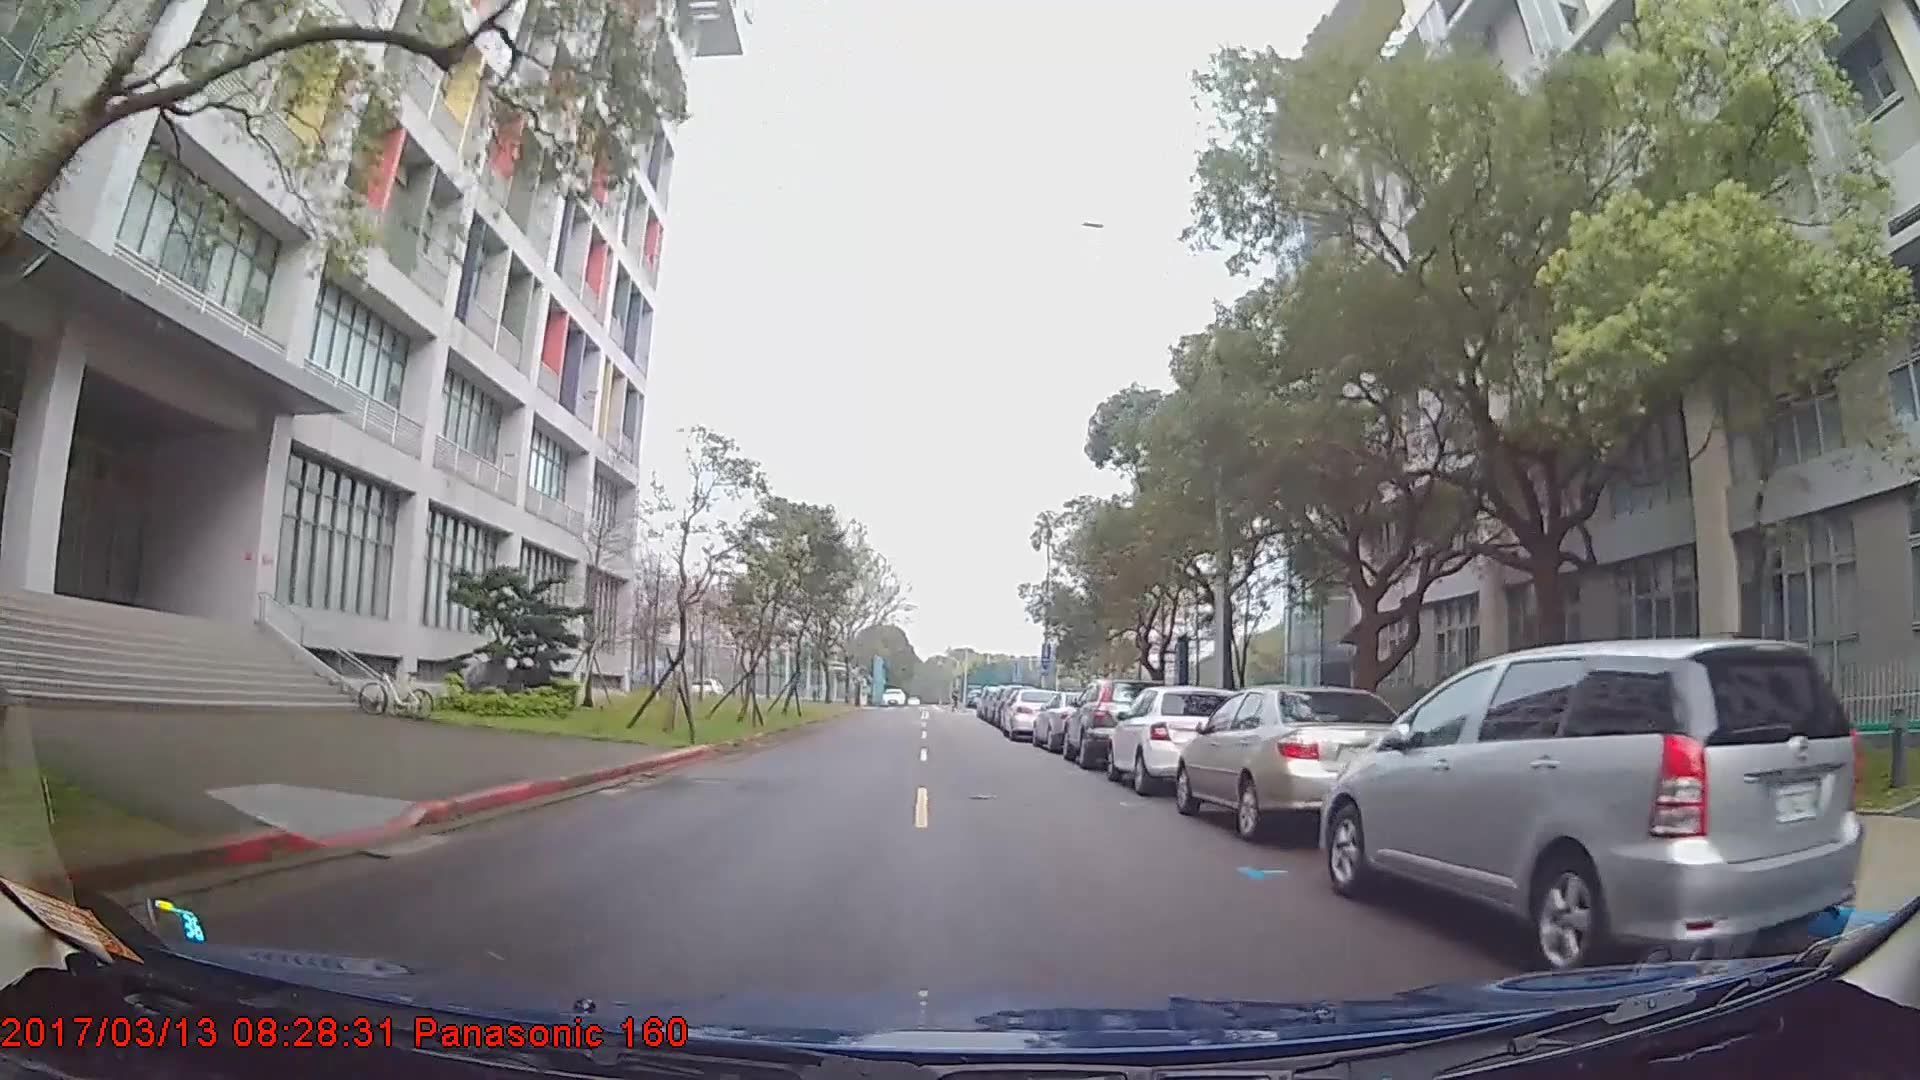vehicle: (1319, 636, 1862, 978), (1178, 682, 1423, 839), (1104, 684, 1236, 793), (1059, 676, 1164, 765), (1033, 687, 1116, 752), (1000, 684, 1062, 741)
